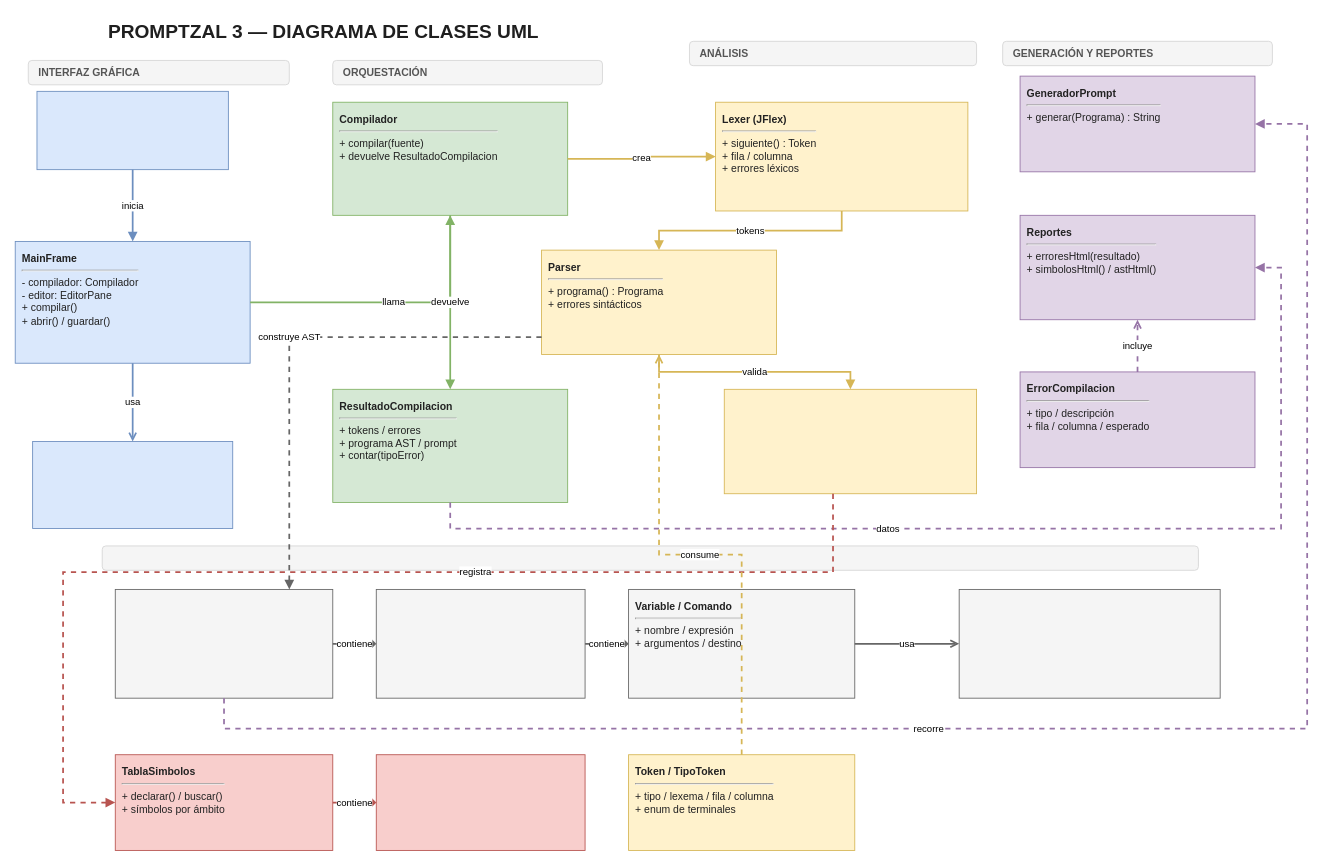
Image size: 1330x866. Some labels were removed from this diagram. Here are the shapes that lost their labels. From the top down, the centre of each, then its label:
At pixel 132 130: "Main + main(args)".
At pixel 850 441: "AnalizadorSemantico + analizar(Programa) + valida símbolos y referencias".
At pixel 132 485: "EditorPane + getTexto() + setTexto(texto)".
At pixel 649 557: "MODELO AST Y TABLA DE SÍMBOLOS".
At pixel 223 643: "Programa (AST) + directivas / agentes + ejecuciones / exportaciones".
At pixel 480 643: "Agente + nombre / contexto + variables / comandos".
At pixel 1089 643: "Expresión / Término + cadenas / identificadores + números / CARGAR / suma".
At pixel 480 802: "Simbolo + nombre / tipo / ámbito + línea de declaración".
